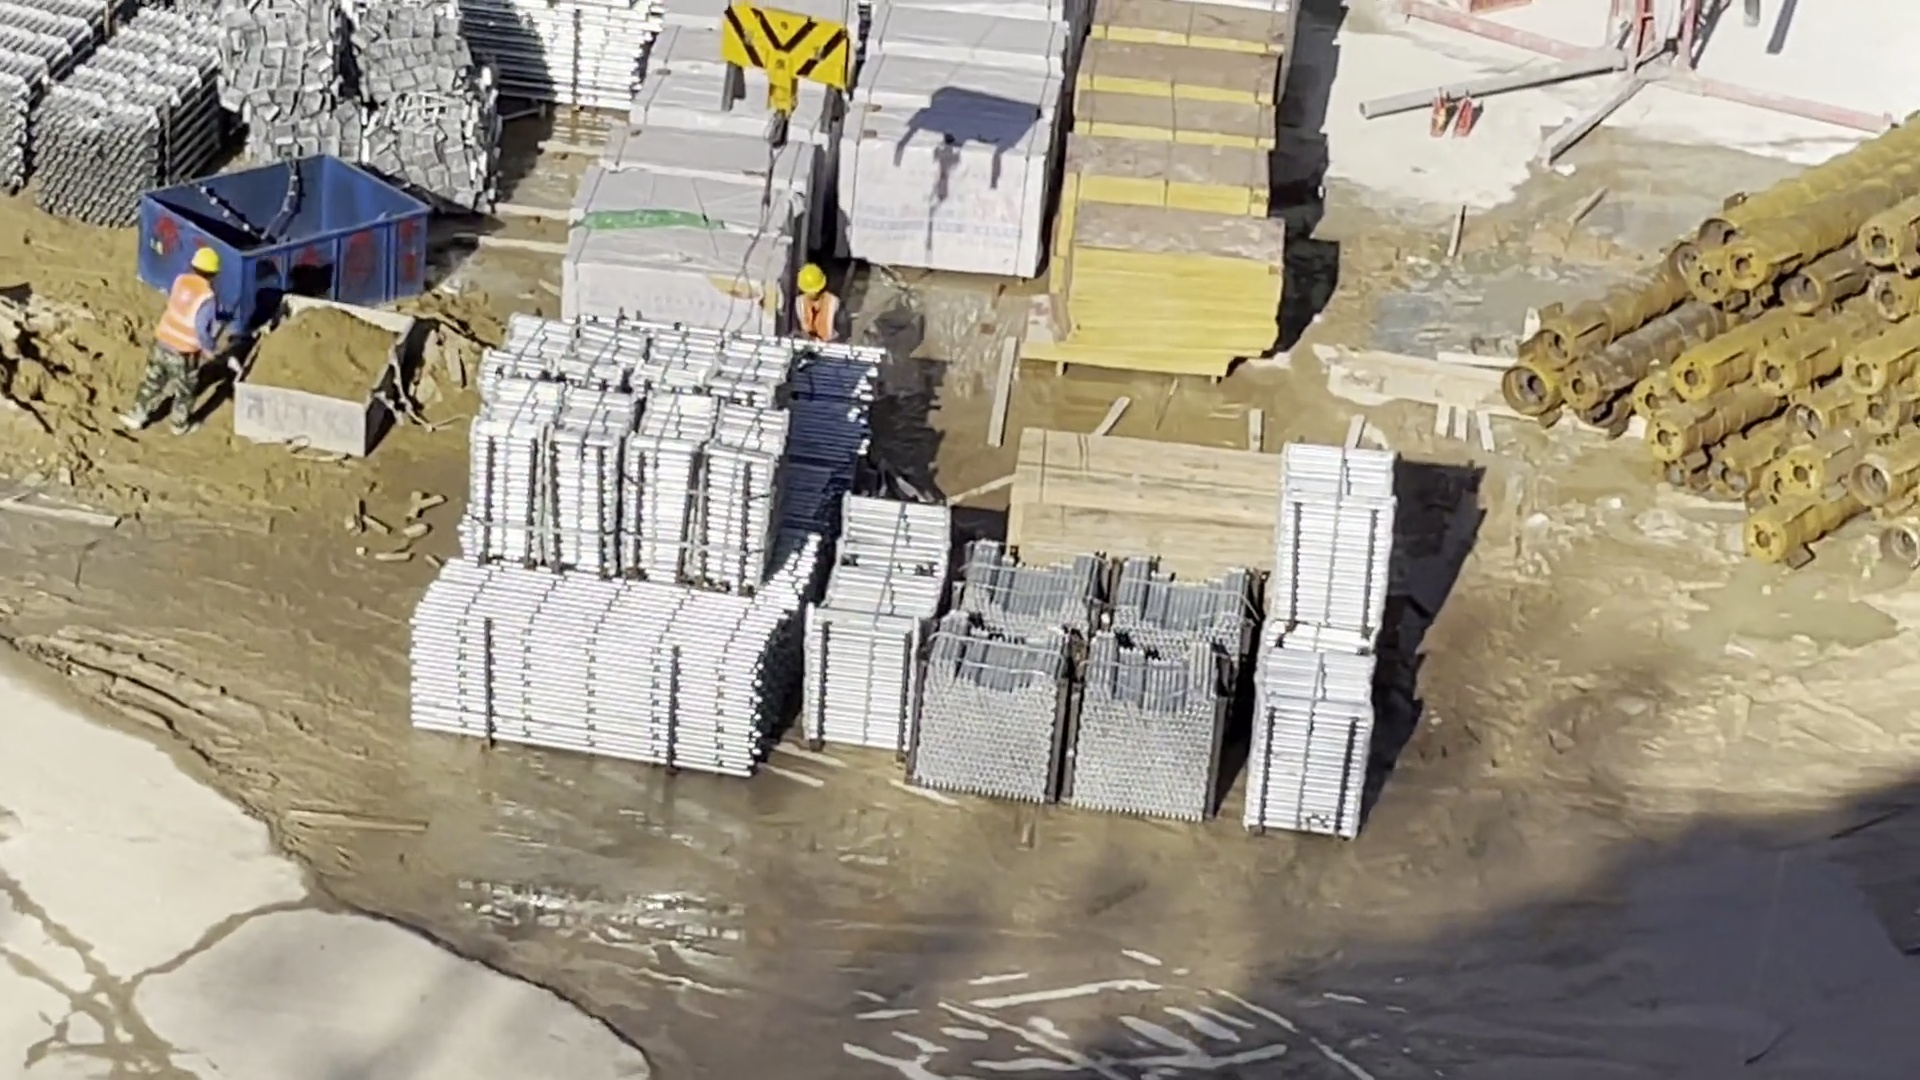helmet: (165, 228, 230, 278), (784, 256, 834, 298)
hook: (708, 1, 886, 160)
hopper: (147, 133, 433, 306), (239, 288, 427, 464)
person: (140, 236, 249, 457), (781, 249, 858, 363)
scaffold: (473, 286, 915, 777), (968, 521, 1255, 798), (1262, 439, 1389, 838), (1, 1, 148, 213)
vest: (148, 281, 227, 357), (786, 294, 840, 331)
